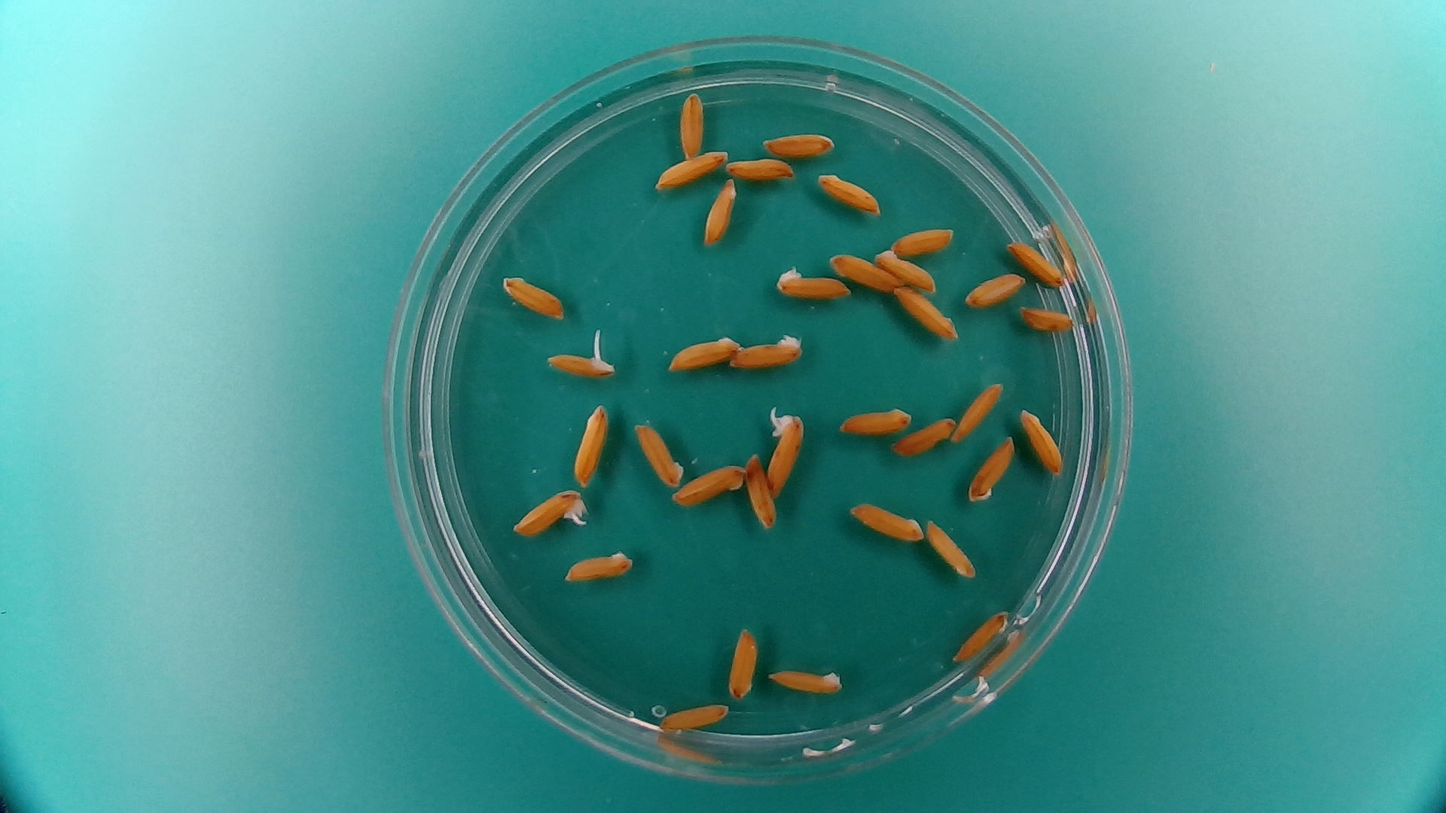no: (631, 418, 686, 490), (892, 284, 960, 341), (669, 459, 747, 506), (966, 433, 1016, 506), (569, 400, 610, 489), (651, 145, 731, 190), (846, 499, 925, 544), (496, 272, 567, 322), (1017, 404, 1065, 477), (664, 329, 743, 373), (728, 328, 805, 373), (923, 515, 977, 579), (889, 415, 960, 463), (950, 379, 1003, 443), (813, 169, 885, 216), (950, 607, 1008, 664), (772, 260, 853, 300), (873, 245, 940, 293), (827, 250, 902, 292), (561, 544, 637, 584), (1005, 237, 1067, 286), (835, 401, 916, 438), (743, 449, 779, 531), (700, 175, 740, 248), (726, 623, 761, 702), (656, 698, 732, 734), (765, 662, 845, 696), (963, 270, 1027, 309), (760, 126, 837, 158), (676, 87, 706, 160), (886, 224, 956, 255), (724, 154, 796, 181), (1017, 303, 1075, 333)
yes: (508, 486, 588, 539), (762, 405, 807, 499), (542, 349, 618, 381)
